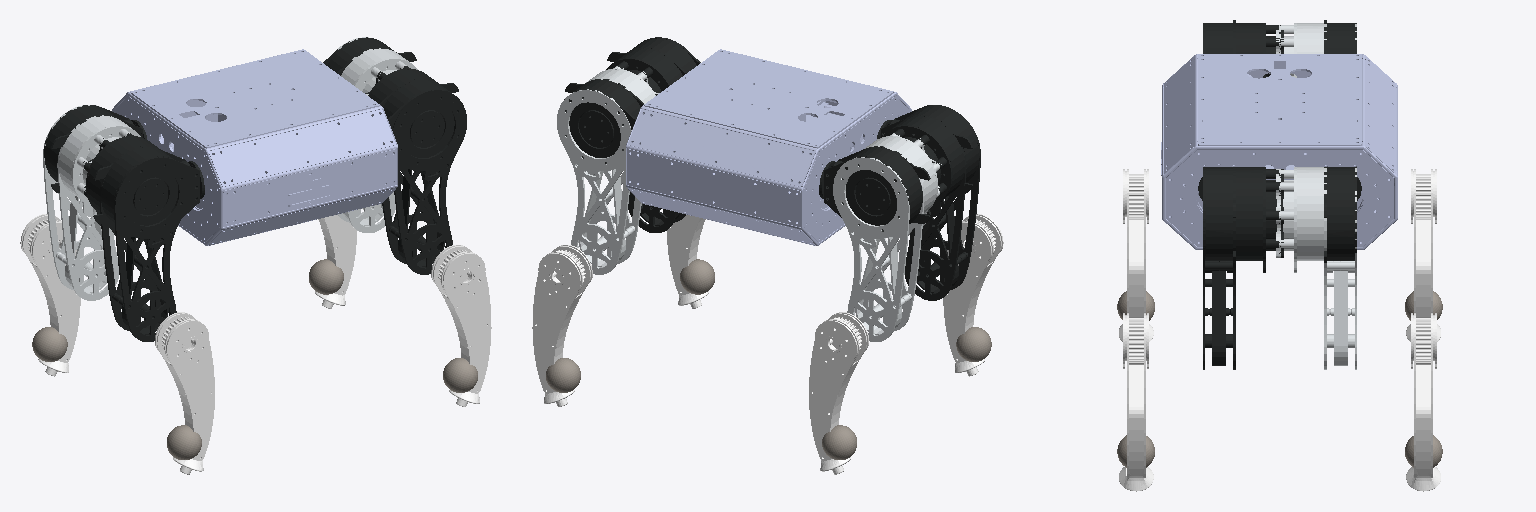
--- Facts derived from the render (not from the file) ---
3 views of the same robot in one strip: view 1: azimuth 30°, elevation 25°; view 2: azimuth 150°, elevation 25°; view 3: azimuth 270°, elevation 25° (orthographic).
Robot: dfki-quad — 22 links, 21 joints (12 revolute, 9 fixed); root link base_link; default pose: all joints at 0.
Visible links, largest first — view 1: base_link, br_HFE_link, fr_HFE_link, bl_HFE_link, br_KFE_link, fr_KFE_link, br_HAA_link, bl_KFE_link, fr_HAA_link, fl_HFE_link, fl_KFE_link, bl_HAA_link (+5 smaller); view 2: base_link, bl_HFE_link, fl_HFE_link, br_HFE_link, bl_KFE_link, fl_KFE_link, bl_HAA_link, br_KFE_link, fl_HAA_link, fr_HFE_link, fr_KFE_link, br_HAA_link (+5 smaller); view 3: base_link, fl_HFE_link, fr_HFE_link, fr_KFE_link, fl_KFE_link, bl_KFE_link, br_KFE_link, fl_HAA_link, fr_HAA_link, bl_HFE_link, br_HFE_link, bl_HAA_link (+1 smaller).
Boxes of the visible links, x1=… form: base_link: x1=112, y1=49, x2=397, y2=245; br_HFE_link: x1=83, y1=133, x2=190, y2=341; fr_HFE_link: x1=365, y1=66, x2=466, y2=274; bl_HFE_link: x1=43, y1=105, x2=140, y2=300; br_KFE_link: x1=155, y1=312, x2=214, y2=474; fr_KFE_link: x1=431, y1=245, x2=491, y2=406; br_HAA_link: x1=93, y1=146, x2=204, y2=231; bl_KFE_link: x1=20, y1=214, x2=80, y2=376; fr_HAA_link: x1=380, y1=79, x2=459, y2=163; fl_HFE_link: x1=338, y1=37, x2=417, y2=232; fl_KFE_link: x1=315, y1=215, x2=356, y2=308; bl_HAA_link: x1=44, y1=105, x2=146, y2=192; base_link: x1=626, y1=49, x2=911, y2=245; bl_HFE_link: x1=833, y1=133, x2=941, y2=341; fl_HFE_link: x1=557, y1=66, x2=658, y2=274; br_HFE_link: x1=883, y1=105, x2=980, y2=300; bl_KFE_link: x1=809, y1=312, x2=868, y2=474; fl_KFE_link: x1=532, y1=245, x2=592, y2=406; bl_HAA_link: x1=819, y1=146, x2=930, y2=231; br_KFE_link: x1=943, y1=214, x2=1003, y2=376; fl_HAA_link: x1=564, y1=79, x2=643, y2=163; fr_HFE_link: x1=606, y1=37, x2=685, y2=232; fr_KFE_link: x1=667, y1=215, x2=708, y2=308; br_HAA_link: x1=877, y1=105, x2=979, y2=192; base_link: x1=1162, y1=54, x2=1397, y2=249; fl_HFE_link: x1=1276, y1=167, x2=1356, y2=369; fr_HFE_link: x1=1203, y1=167, x2=1283, y2=369; fr_KFE_link: x1=1119, y1=313, x2=1153, y2=491; fl_KFE_link: x1=1406, y1=313, x2=1440, y2=491; bl_KFE_link: x1=1406, y1=169, x2=1440, y2=341; br_KFE_link: x1=1119, y1=169, x2=1153, y2=341; fl_HAA_link: x1=1324, y1=167, x2=1361, y2=262; fr_HAA_link: x1=1198, y1=167, x2=1235, y2=262; bl_HFE_link: x1=1276, y1=23, x2=1356, y2=77; br_HFE_link: x1=1203, y1=23, x2=1283, y2=77; bl_HAA_link: x1=1324, y1=20, x2=1356, y2=53.
Bounding box of the posed robot: 0.4813 × 0.3473 × 0.3702 m (x, y, z).
Meshes: 18 distinct files referenced, 18 mesh visuals loaded (18 OBJ).

robot.urdf — dfki-quad:
<?xml version="1.0" encoding="utf-8"?>
<!-- This URDF was automatically created by SolidWorks to URDF Exporter! Originally created by Stephen Brawner ([email redacted])
     Commit Version: 1.6.0-4-g7f85cfe  Build Version: 1.6.7995.38578
     For more information, please see http://wiki.ros.org/sw_urdf_exporter -->
<robot xmlns:drake="http://drake.mit.edu" name="dfki-quad">
    <link name="base_link">
        <inertial>
            <origin xyz="-0.00024281 0.0014491 0.016057" rpy="0 0 0"/>
            <mass value="4.2653"/>
            <inertia ixx="0.0075226" ixy="-2.4523E-06" ixz="-6.4336E-05" iyy="0.0062347" iyz="-9.679E-08"
                     izz="0.0094212"/>
        </inertial>
        <visual>
            <origin xyz="0 0 0" rpy="0 0 0"/>
            <geometry>
                <mesh filename="meshes/obj/base_link.obj"/>
            </geometry>
            <material name="">
                <color rgba="0.792156862745098 0.819607843137255 0.933333333333333 1"/>
            </material>
        </visual>
        <collision name="base_link_collision">
            <origin xyz="0 0 0.01" rpy="0 0 0"/>
            <geometry>
                <!-- <mesh filename="meshes/obj/base_link.obj" /> -->
                <box size="0.47 0.18 0.12" name="TEST"/>
            </geometry>
            <drake:proximity_properties>
                <drake:compliant_hydroelastic/>
                <drake:hydroelastic_modulus value="5e7"/>
                <drake:hunt_crossley_dissipation value="0.0"/>
                <drake:mesh_resolution_hint value="0.1"/>
            </drake:proximity_properties>
        </collision>
    </link>

    <link name="fl_HAA_link">
        <inertial>
            <origin xyz="-0.0049247 -0.0032803 -4.7454E-11" rpy="0 0 0"/>
            <mass value="0.55689"/>
            <inertia ixx="0.00037385" ixy="7.6753E-06" ixz="-7.7513E-14" iyy="0.00060901" iyz="-6.3404E-14"
                     izz="0.00036065"/>
        </inertial>
        <visual>
            <origin xyz="0 0 0" rpy="0 0 0"/>
            <geometry>
                <mesh filename="meshes/obj/fl_HAA_link.obj"/>
            </geometry>
            <material name="">
                <color rgba="0.192156862745098 0.203921568627451 0.203921568627451 1"/>
            </material>
        </visual>
        <!-- <collision>
          <origin xyz="0 0 0" rpy="0 0 0" />
          <geometry>
            <mesh filename="meshes/obj/fl_HAA_link.obj" />
          </geometry>
        </collision> -->
    </link>
    <joint name="fl_abad" type="revolute">
        <origin xyz="0.1823 0.064622 0.01223" rpy="0 0 0"/>
        <parent link="base_link"/>
        <child link="fl_HAA_link"/>
        <axis xyz="1 0 0"/>
        <limit lower="-1.5708" upper="1.5708" effort="16" velocity="43.63"/>
    </joint>
    <link name="fl_HFE_link">
        <inertial>
            <origin xyz="-0.000309099592494755 0.0592971342123659 -0.0155787358460511" rpy="0 0 0"/>
            <mass value="0.757355940225912"/>
            <inertia ixx="0.000930735288833917" ixy="9.29777265885545E-06" ixz="-6.64795678058204E-06"
                     iyy="0.00126293713603538" iyz="-3.85121712819215E-06" izz="0.000468369910900618"/>
        </inertial>
        <visual>
            <origin xyz="0 0 0" rpy="0 0 0"/>
            <geometry>
                <mesh filename="meshes/obj/fl_HFE_link.obj"/>
            </geometry>
            <material name="">
                <color rgba="0.898039215686275 0.917647058823529 0.929411764705882 1"/>
            </material>
        </visual>
        <collision name="fl_HFE_collision">
            <origin xyz="0 0.09 -0.05" rpy="0 0 0"/>
            <geometry>
                <!-- <mesh filename="meshes/obj/fl_HFE_link.obj" /> -->
                <box size="0.065 0.035 0.19"/>
            </geometry>
            <drake:proximity_properties>
                <drake:compliant_hydroelastic/>
                <drake:hydroelastic_modulus value="5e7"/>
                <drake:mesh_resolution_hint value="0.19"/>
                <drake:hunt_crossley_dissipation value="0.0"/>
            </drake:proximity_properties>
        </collision>
    </link>
    <joint name="fl_shoulder" type="revolute">
        <origin xyz="0 0 0" rpy="0 0 0"/>
        <parent link="fl_HAA_link"/>
        <child link="fl_HFE_link"/>
        <axis xyz="0 1 0"/>
        <limit lower="-4.398" upper="4.398" effort="16" velocity="43.63"/>
    </joint>
    <link name="fl_KFE_link">
        <inertial>
            <origin xyz="-0.000612511970991186 -3.8249903244747E-10 -0.0190160381637978" rpy="0 0 0"/>
            <mass value="0.092465508863915"/>
            <inertia ixx="8.22684885297102E-05" ixy="-4.51648361906756E-13" ixz="5.32534286428279E-06"
                     iyy="9.84478666365485E-05" iyz="9.20617336695021E-12" izz="1.73201109019667E-05"/>
        </inertial>
        <visual>
            <origin xyz="0 0 0" rpy="0 0 0"/>
            <geometry>
                <mesh filename="meshes/obj/fl_KFE_link.obj"/>
            </geometry>
            <material name="">
                <color rgba="1 1 1 1"/>
            </material>
        </visual>
        <collision name="fl_KFE_link_collision">
            <origin xyz="0 0 -0.06" rpy="0 0 0"/>
            <geometry>
                <!-- <mesh filename="meshes/obj/fl_KFE_link.obj" /> -->
                <box size="0.02 0.02 0.09"/>
            </geometry>
            <drake:proximity_properties>
                <drake:compliant_hydroelastic/>
                <drake:hydroelastic_modulus value="5e7"/>
                <drake:mesh_resolution_hint value="0.02"/>
                <drake:hunt_crossley_dissipation value="0.0"/>
            </drake:proximity_properties>
        </collision>
    </link>
    <joint name="fl_knee" type="revolute">
        <origin xyz="0 0.0888 -0.15" rpy="0 0 0"/>
        <parent link="fl_HFE_link"/>
        <child link="fl_KFE_link"/>
        <axis xyz="0 1 0"/>
        <limit lower="-2.5" upper="1.57" effort="30" velocity="20"/>
    </joint>
    <link name="fl_foot_link">
        <inertial>
            <origin xyz="0.00113958036105341 -2.77555756156289E-17 0.00439935319886975" rpy="0 0 0"/>
            <mass value="0.00532558894950042"/>
            <inertia ixx="1.26104209201748E-07" ixy="5.99748747683856E-24" ixz="-1.86674655051106E-08"
                     iyy="1.30939710267162E-07" iyz="2.23024150939061E-23" izz="5.88739070193902E-08"/>
        </inertial>
        <visual>
            <origin xyz="0 0 0" rpy="0 0 0"/>
            <geometry>
                <mesh filename="meshes/obj/fl_foot_link.obj"/>
            </geometry>
            <material name="">
                <color rgba="0.647058823529412 0.619607843137255 0.588235294117647 1"/>
            </material>
        </visual>
    </link>
    <joint name="fl_foot" type="fixed">
        <origin xyz="0 0 -0.13" rpy="0 0 0"/>
        <parent link="fl_KFE_link"/>
        <child link="fl_foot_link"/>
        <axis xyz="0 0 0"/>
    </joint>
    <link name="fl_contact">
        <inertial>
            <origin xyz="0.0 -0.0 0.0" rpy="0 0 0"/>
            <mass value="0.001"/>
            <inertia ixx="1.26104209201748E-07" ixy="6.03511043060453E-24" ixz="-1.86674655051106E-08"
                     iyy="1.30939710267162E-07" iyz="2.22210127082736E-23" izz="5.88739070193902E-08"/>
        </inertial>
        <visual>
            <origin xyz="0.0 0 0.0" rpy="0 0 0"/>
            <geometry>
                <sphere radius="0.02"/>
            </geometry>
            <material name="">
                <color rgba="0.647058823529412 0.619607843137255 0.588235294117647 1"/>
            </material>
        </visual>
        <collision name="fl_foot_collision">
            <origin xyz="0 0 0" rpy="0 0 0"/>
            <geometry>
                <!-- <mesh filename="meshes/obj/fl_foot_link.obj" /> -->
                <sphere radius="0.02"/>
            </geometry>
            <drake:proximity_properties>
                <drake:compliant_hydroelastic/>
                <drake:mesh_resolution_hint value="0.02"/>
                <drake:hydroelastic_modulus value="3e5"/>
                <drake:hunt_crossley_dissipation value="50.0"/>
                <drake:mu_dynamic value="4.0"/>
                <drake:mu_static value="4.0"/>
            </drake:proximity_properties>
        </collision>
    </link>
    <joint name="fl_contact_frame" type="fixed">
        <origin xyz="0 0 0.0" rpy="0 0 0"/>
        <parent link="fl_foot_link"/>
        <child link="fl_contact"/>
        <axis xyz="0 0 0"/>
    </joint>


    <transmission name="trans_fl_abad">
        <type>transmission_interface/SimpleTransmission</type>
        <joint name="fl_abad">
            <hardwareInterface>PositionJointInterface</hardwareInterface>
        </joint>
        <actuator name="act_fl_abad">
            <mechanicalReduction>1.0</mechanicalReduction>
            <hardwareInterface>PositionJointInterface</hardwareInterface>
            <drake:rotor_inertia value="0.05"/>
        </actuator>
    </transmission>
    <transmission name="trans_fl_shoulder">
        <type>transmission_interface/SimpleTransmission</type>
        <joint name="fl_shoulder">
            <hardwareInterface>PositionJointInterface</hardwareInterface>
        </joint>
        <actuator name="act_fl_shoulder">
            <mechanicalReduction>1.0</mechanicalReduction>
            <hardwareInterface>PositionJointInterface</hardwareInterface>
            <drake:rotor_inertia value="0.05"/>
        </actuator>
    </transmission>
    <transmission name="trans_fl_knee">
        <type>transmission_interface/SimpleTransmission</type>
        <joint name="fl_knee">
            <hardwareInterface>PositionJointInterface</hardwareInterface>
        </joint>
        <actuator name="act_fl_knee">
            <mechanicalReduction>1.0</mechanicalReduction>
            <hardwareInterface>PositionJointInterface</hardwareInterface>
            <drake:rotor_inertia value="0.05"/>
        </actuator>
    </transmission>


    <link name="fr_HAA_link">
        <inertial>
            <origin xyz="-0.00492472958390502 0.00328034681546928 4.74542511216852E-11" rpy="0 0 0"/>
            <mass value="0.556889921970022"/>
            <inertia ixx="0.000373847805487761" ixy="-7.67531604751217E-06" ixz="7.75127155445682E-14"
                     iyy="0.000609014429099026" iyz="-6.34043378292338E-14" izz="0.000360654806782475"/>
        </inertial>
        <visual>
            <origin xyz="0 0 0" rpy="0 0 0"/>
            <geometry>
                <mesh filename="meshes/obj/fr_HAA_link.obj"/>
            </geometry>
            <material name="">
                <color rgba="0.192156862745098 0.203921568627451 0.203921568627451 1"/>
            </material>
        </visual>
        <!-- <collision>
          <origin xyz="0 0 0" rpy="0 0 0" />
          <geometry>
            <mesh filename="meshes/obj/fr_HAA_link.obj" />
          </geometry>
        </collision> -->
    </link>
    <joint name="fr_abad" type="revolute">
        <origin xyz="0.1823 -0.064622 0.01223" rpy="0 0 0"/>
        <parent link="base_link"/>
        <child link="fr_HAA_link"/>
        <axis xyz="1 0 0"/>
        <limit lower="-1.5708" upper="1.5708" effort="16" velocity="43.63"/>
    </joint>
    <link name="fr_HFE_link">
        <inertial>
            <origin xyz="-0.000309101043062948 -0.0592830121726714 -0.0155787409784353" rpy="0 0 0"/>
            <mass value="0.757355940225912"/>
            <inertia ixx="0.000930735300678418" ixy="-9.29782931306803E-06" ixz="-6.64793757030374E-06"
                     iyy="0.00126293713603478" iyz="3.85133281087072E-06" izz="0.00046836989905552"/>
        </inertial>
        <visual>
            <origin xyz="0 0 0" rpy="0 0 0"/>
            <geometry>
                <mesh filename="meshes/obj/fr_HFE_link.obj"/>
            </geometry>
            <material name="">
                <color rgba="0.192156862745098 0.203921568627451 0.203921568627451 1"/>
            </material>
        </visual>
        <collision name="fr_HFE_collision">
            <origin xyz="0 -0.09 -0.05" rpy="0 0 0"/>
            <geometry>
                <!-- <mesh filename="meshes/obj/fr_HFE_link.obj" /> -->
                <box size="0.065 0.035 0.19"/>
            </geometry>
            <drake:proximity_properties>
                <drake:compliant_hydroelastic/>
                <drake:hydroelastic_modulus value="5e7"/>
                <drake:mesh_resolution_hint value="0.19"/>
                <drake:hunt_crossley_dissipation value="0.0"/>
            </drake:proximity_properties>
        </collision>
    </link>
    <joint name="fr_shoulder" type="revolute">
        <origin xyz="0 0 0" rpy="0 0 0"/>
        <parent link="fr_HAA_link"/>
        <child link="fr_HFE_link"/>
        <axis xyz="0 1 0"/>
        <limit lower="-4.398" upper="4.398" effort="16" velocity="43.63"/>
    </joint>
    <link name="fr_KFE_link">
        <inertial>
            <origin xyz="-0.000612511608132277 -3.82499393269953E-10 -0.0190160392483582" rpy="0 0 0"/>
            <mass value="0.0924655093913887"/>
            <inertia ixx="8.22684835881254E-05" ixy="-4.51648291808197E-13" ixz="5.32534157974082E-06"
                     iyy="9.84478614813258E-05" iyz="9.20617322119976E-12" izz="1.73201107018322E-05"/>
        </inertial>
        <visual>
            <origin xyz="0 0 0" rpy="0 0 0"/>
            <geometry>
                <mesh filename="meshes/obj/fr_KFE_link.obj"/>
            </geometry>
            <material name="">
                <color rgba="1 1 1 1"/>
            </material>
        </visual>
        <collision name="fr_KFE_collision">
            <origin xyz="0 0 -0.06" rpy="0 0 0"/>
            <geometry>
                <!-- <mesh filename="meshes/obj/fr_KFE_link.obj" /> -->
                <box size="0.02 0.02 0.09"/>
            </geometry>
            <drake:proximity_properties>
                <drake:compliant_hydroelastic/>
                <drake:hydroelastic_modulus value="5e7"/>
                <drake:mesh_resolution_hint value="0.02"/>
                <drake:hunt_crossley_dissipation value="0.0"/>
            </drake:proximity_properties>
        </collision>
    </link>
    <joint name="fr_knee" type="revolute">
        <origin xyz="0 -0.0888 -0.15" rpy="0 0 0"/>
        <parent link="fr_HFE_link"/>
        <child link="fr_KFE_link"/>
        <axis xyz="0 1 0"/>
        <limit lower="-2.5" upper="1.57" effort="30" velocity="20"/>
    </joint>
    <link name="fr_foot_link">
        <inertial>
            <origin xyz="0.00113958036105341 -5.55111512312578E-17 0.00439935319886969" rpy="0 0 0"/>
            <mass value="0.00532558894950043"/>
            <inertia ixx="1.26104209201748E-07" ixy="4.67571649650814E-24" ixz="-1.86674655051106E-08"
                     iyy="1.30939710267162E-07" iyz="1.15717216386863E-23" izz="5.88739070193902E-08"/>
        </inertial>
        <visual>
            <origin xyz="0 0 0" rpy="0 0 0"/>
            <geometry>
                <mesh filename="meshes/obj/fr_foot_link.obj"/>
            </geometry>
            <material name="">
                <color rgba="0.647058823529412 0.619607843137255 0.588235294117647 1"/>
            </material>
        </visual>
    </link>
    <joint name="fr_foot" type="fixed">
        <origin xyz="0 0 -0.13" rpy="0 0 0"/>
        <parent link="fr_KFE_link"/>
        <child link="fr_foot_link"/>
        <axis xyz="0 0 0"/>
    </joint>
    <link name="fr_contact">
        <inertial>
            <origin xyz="0.0 -0.0 0.0" rpy="0 0 0"/>
            <mass value="0.001"/>
            <inertia ixx="1.26104209201748E-07" ixy="6.03511043060453E-24" ixz="-1.86674655051106E-08"
                     iyy="1.30939710267162E-07" iyz="2.22210127082736E-23" izz="5.88739070193902E-08"/>
        </inertial>
        <visual>
            <origin xyz="0.0 0 0.0" rpy="0 0 0"/>
            <geometry>
                <sphere radius="0.02"/>
            </geometry>
            <material name="">
                <color rgba="0.647058823529412 0.619607843137255 0.588235294117647 1"/>
            </material>
        </visual>
        <collision name="fr_foot_collision">
            <origin xyz="0 0 0" rpy="0 0 0"/>
            <geometry>
                <!-- <mesh filename="meshes/obj/fr_foot_link.obj" /> -->
                <sphere radius="0.02"/>
            </geometry>
            <drake:proximity_properties>
                <drake:compliant_hydroelastic/>
                <drake:mesh_resolution_hint value="0.02"/>
                <drake:hydroelastic_modulus value="3e5"/>
                <drake:hunt_crossley_dissipation value="50.0"/>
                <drake:mu_dynamic value="4.0"/>
                <drake:mu_static value="4.0"/>
            </drake:proximity_properties>
        </collision>
    </link>
    <joint name="fr_contact_frame" type="fixed">
        <origin xyz="0 0 0.0" rpy="0 0 0"/>
        <parent link="fr_foot_link"/>
        <child link="fr_contact"/>
        <axis xyz="0 0 0"/>
    </joint>


    <transmission name="trans_fr_abad">
        <type>transmission_interface/SimpleTransmission</type>
        <joint name="fr_abad">
            <hardwareInterface>PositionJointInterface</hardwareInterface>
        </joint>
        <actuator name="act_fr_abad">
            <mechanicalReduction>1.0</mechanicalReduction>
            <hardwareInterface>PositionJointInterface</hardwareInterface>
            <drake:rotor_inertia value="0.05"/>
        </actuator>
    </transmission>
    <transmission name="trans_fr_shoulder">
        <type>transmission_interface/SimpleTransmission</type>
        <joint name="fr_shoulder">
            <hardwareInterface>PositionJointInterface</hardwareInterface>
        </joint>
        <actuator name="act_fr_shoulder">
            <mechanicalReduction>1.0</mechanicalReduction>
            <hardwareInterface>PositionJointInterface</hardwareInterface>
            <drake:rotor_inertia value="0.05"/>
        </actuator>
    </transmission>
    <transmission name="trans_fr_knee">
        <type>transmission_interface/SimpleTransmission</type>
        <joint name="fr_knee">
            <hardwareInterface>PositionJointInterface</hardwareInterface>
        </joint>
        <actuator name="act_fr_knee">
            <mechanicalReduction>1.0</mechanicalReduction>
            <hardwareInterface>PositionJointInterface</hardwareInterface>
            <drake:rotor_inertia value="0.05"/>
        </actuator>
    </transmission>


    <link name="bl_HAA_link">
        <inertial>
            <origin xyz="0.004924729583905 -0.00328034681546929 4.74542570378922E-11" rpy="0 0 0"/>
            <mass value="0.556889921970022"/>
            <inertia ixx="0.000373847805487761" ixy="-7.67531604751224E-06" ixz="-7.75126837204945E-14"
                     iyy="0.000609014429099027" iyz="6.34041921064572E-14" izz="0.000360654806782475"/>
        </inertial>
        <visual>
            <origin xyz="0 0 0" rpy="0 0 0"/>
            <geometry>
                <mesh filename="meshes/obj/bl_HAA_link.obj"/>
            </geometry>
            <material name="">
                <color rgba="0.192156862745098 0.203921568627451 0.203921568627451 1"/>
            </material>
        </visual>
        <!-- <collision>
          <origin xyz="0 0 0" rpy="0 0 0" />
          <geometry>
            <mesh filename="meshes/obj/bl_HAA_link.obj" />
          </geometry>
        </collision> -->
    </link>
    <joint name="bl_abad" type="revolute">
        <origin xyz="-0.1823 0.064622 0.01223" rpy="0 0 0"/>
        <parent link="base_link"/>
        <child link="bl_HAA_link"/>
        <axis xyz="1 0 0"/>
        <limit lower="-1.5708" upper="1.5708" effort="16" velocity="43.63"/>
    </joint>
    <link name="bl_HFE_link">
        <inertial>
            <origin xyz="-0.000309099592494838 0.0592971342123661 -0.0155787358460509" rpy="0 0 0"/>
            <mass value="0.757355940225912"/>
            <inertia ixx="0.000930735288834102" ixy="9.29777265885247E-06" ixz="-6.64795678085117E-06"
                     iyy="0.00126293713603534" iyz="-3.85121712819409E-06" izz="0.000468369910900392"/>
        </inertial>
        <visual>
            <origin xyz="0 0 0" rpy="0 0 0"/>
            <geometry>
                <mesh filename="meshes/obj/bl_HFE_link.obj"/>
            </geometry>
            <material name="">
                <color rgba="0.898039215686275 0.917647058823529 0.929411764705882 1"/>
            </material>
        </visual>
        <collision name="bl_HFE_link">
            <origin xyz="0 0.09 -0.05" rpy="0 0 0"/>
            <geometry>
                <!-- <mesh filename="meshes/obj/bl_HFE_link.obj" /> -->
                <box size="0.065 0.035 0.19"/>
            </geometry>
            <drake:proximity_properties>
                <drake:compliant_hydroelastic/>
                <drake:hydroelastic_modulus value="5e7"/>
                <drake:mesh_resolution_hint value="0.06"/>
                <drake:hunt_crossley_dissipation value="0.0"/>
            </drake:proximity_properties>
        </collision>
    </link>
    <joint name="bl_shoulder" type="revolute">
        <origin xyz="0 0 0" rpy="0 0 0"/>
        <parent link="bl_HAA_link"/>
        <child link="bl_HFE_link"/>
        <axis xyz="0 1 0"/>
        <limit lower="-4.398" upper="4.398" effort="16" velocity="43.63"/>
    </joint>
    <link name="bl_KFE_link">
        <inertial>
            <origin xyz="-0.000612511608132443 -3.82499115714197E-10 -0.0190160392483582" rpy="0 0 0"/>
            <mass value="0.0924655093913889"/>
            <inertia ixx="8.22684835881258E-05" ixy="-4.5164828883313E-13" ixz="5.3253415797408E-06"
                     iyy="9.84478614813263E-05" iyz="9.20617319694051E-12" izz="1.73201107018322E-05"/>
        </inertial>
        <visual>
            <origin xyz="0 0 0" rpy="0 0 0"/>
            <geometry>
                <mesh filename="meshes/obj/bl_KFE_link.obj"/>
            </geometry>
            <material name="">
                <color rgba="1 1 1 1"/>
            </material>
        </visual>
        <collision name="bl_KFE_collision">
            <origin xyz="0 0 -0.06" rpy="0 0 0"/>
            <geometry>
                <!-- <mesh filename="meshes/obj/bl_KFE_link.obj" /> -->
                <box size="0.02 0.02 0.09"/>
            </geometry>
            <drake:proximity_properties>
                <drake:compliant_hydroelastic/>
                <drake:hydroelastic_modulus value="5e7"/>
                <drake:mesh_resolution_hint value="0.02"/>
                <drake:hunt_crossley_dissipation value="0.0"/>
            </drake:proximity_properties>
        </collision>
    </link>
    <joint name="bl_knee" type="revolute">
        <origin xyz="0 0.0888 -0.15" rpy="0 0 0"/>
        <parent link="bl_HFE_link"/>
        <child link="bl_KFE_link"/>
        <axis xyz="0 1 0"/>
        <limit lower="-2.5" upper="1.57" effort="30" velocity="20"/>
    </joint>
    <link name="bl_foot_link">
        <inertial>
            <origin xyz="0.00113958036105341 -5.55111512312578E-17 0.00439935319886975" rpy="0 0 0"/>
            <mass value="0.00532558894950043"/>
            <inertia ixx="1.2610420920175E-07" ixy="2.39578552378E-24" ixz="-1.86674655051111E-08"
                     iyy="1.30939710267164E-07" iyz="2.01433902118905E-23" izz="5.88739070193903E-08"/>
        </inertial>
        <visual>
            <origin xyz="0 0 0" rpy="0 0 0"/>
            <geometry>
                <mesh filename="meshes/obj/bl_foot_link.obj"/>
            </geometry>
            <material name="">
                <color rgba="0.647058823529412 0.619607843137255 0.588235294117647 1"/>
            </material>
        </visual>
    </link>
    <joint name="bl_foot" type="fixed">
        <origin xyz="0 0 -0.13" rpy="0 0 0"/>
        <parent link="bl_KFE_link"/>
        <child link="bl_foot_link"/>
        <axis xyz="0 0 0"/>
    </joint>
    <link name="bl_contact">
        <inertial>
            <origin xyz="0.0 -0.0 0.0" rpy="0 0 0"/>
            <mass value="0.001"/>
            <inertia ixx="1.26104209201748E-07" ixy="6.03511043060453E-24" ixz="-1.86674655051106E-08"
                     iyy="1.30939710267162E-07" iyz="2.22210127082736E-23" izz="5.88739070193902E-08"/>
        </inertial>
        <visual>
            <origin xyz="0.0 0 0.0" rpy="0 0 0"/>
            <geometry>
                <sphere radius="0.02"/>
            </geometry>
            <material name="">
                <color rgba="0.647058823529412 0.619607843137255 0.588235294117647 1"/>
            </material>
        </visual>
        <collision name="bl_foot_collision">
            <origin xyz="0 0 0" rpy="0 0 0"/>
            <geometry>
                <!-- <mesh filename="meshes/obj/bl_foot_link.obj" /> -->
                <sphere radius="0.02"/>
            </geometry>
            <drake:proximity_properties>
                <drake:compliant_hydroelastic/>
                <drake:mesh_resolution_hint value="0.02"/>
                <drake:hydroelastic_modulus value="3e5"/>
                <drake:hunt_crossley_dissipation value="50.0"/>
                <drake:mu_dynamic value="4.0"/>
                <drake:mu_static value="4.0"/>
            </drake:proximity_properties>
        </collision>
    </link>
    <joint name="bl_contact_frame" type="fixed">
        <origin xyz="0 0 0.0" rpy="0 0 0"/>
        <parent link="bl_foot_link"/>
        <child link="bl_contact"/>
        <axis xyz="0 0 0"/>
    </joint>


    <transmission name="trans_bl_abad">
        <type>transmission_interface/SimpleTransmission</type>
        <joint name="bl_abad">
            <hardwareInterface>PositionJointInterface</hardwareInterface>
        </joint>
        <actuator name="act_bl_abad">
            <mechanicalReduction>1.0</mechanicalReduction>
            <hardwareInterface>PositionJointInterface</hardwareInterface>
            <drake:rotor_inertia value="0.05"/>
        </actuator>
    </transmission>
    <transmission name="trans_bl_shoulder">
        <type>transmission_interface/SimpleTransmission</type>
        <joint name="bl_shoulder">
            <hardwareInterface>PositionJointInterface</hardwareInterface>
        </joint>
        <actuator name="act_bl_shoulder">
            <mechanicalReduction>1.0</mechanicalReduction>
            <hardwareInterface>PositionJointInterface</hardwareInterface>
            <drake:rotor_inertia value="0.05"/>
        </actuator>
    </transmission>
    <transmission name="trans_bl_knee">
        <type>transmission_interface/SimpleTransmission</type>
        <joint name="bl_knee">
            <hardwareInterface>PositionJointInterface</hardwareInterface>
        </joint>
        <actuator name="act_bl_knee">
            <mechanicalReduction>1.0</mechanicalReduction>
            <hardwareInterface>PositionJointInterface</hardwareInterface>
            <drake:rotor_inertia value="0.05"/>
        </actuator>
    </transmission>


    <link name="br_HAA_link">
        <inertial>
            <origin xyz="0.00492472958390505 0.00328034681546927 -4.74542559855168E-11" rpy="0 0 0"/>
            <mass value="0.556889921970022"/>
            <inertia ixx="0.000373847805487761" ixy="7.67531604751252E-06" ixz="7.75127130724998E-14"
                     iyy="0.000609014429099027" iyz="6.3404075977602E-14" izz="0.000360654806782475"/>
        </inertial>
        <visual>
            <origin xyz="0 0 0" rpy="0 0 0"/>
            <geometry>
                <mesh filename="meshes/obj/br_HAA_link.obj"/>
            </geometry>
            <material name="">
                <color rgba="0.192156862745098 0.203921568627451 0.203921568627451 1"/>
            </material>
        </visual>
        <!-- <collision>
          <origin xyz="0 0 0" rpy="0 0 0" />
          <geometry>
            <mesh filename="meshes/obj/br_HAA_link.obj" />
          </geometry>
        </collision> -->
    </link>
    <joint name="br_abad" type="revolute">
        <origin xyz="-0.1823 -0.064622 0.01223" rpy="0 0 0"/>
        <parent link="base_link"/>
        <child link="br_HAA_link"/>
        <axis xyz="1 0 0"/>
        <limit lower="-1.5708" upper="1.5708" effort="16" velocity="43.63"/>
    </joint>
    <link name="br_HFE_link">
        <inertial>
            <origin xyz="-0.0003091 -0.059283 -0.015579" rpy="0 0 0"/>
            <mass value="0.75736"/>
            <inertia ixx="0.00093074" ixy="-9.2978E-06" ixz="-6.6479E-06" iyy="0.0012629" iyz="3.8513E-06"
                     izz="0.00046837"/>
        </inertial>
        <visual>
            <origin xyz="0 0 0" rpy="0 0 0"/>
            <geometry>
                <mesh filename="meshes/obj/br_HFE_link.obj"/>
            </geometry>
            <material name="">
                <color rgba="0.192156862745098 0.203921568627451 0.203921568627451 1"/>
            </material>
        </visual>
        <collision name="br_HFE_collision">
            <origin xyz="0 -0.09 -0.05" rpy="0 0 0"/>
            <geometry>
                <!-- <mesh filename="meshes/obj/br_HFE_link.obj" /> -->
                <box size="0.065 0.035 0.19"/>
            </geometry>
            <drake:proximity_properties>
                <drake:compliant_hydroelastic/>
                <drake:hydroelastic_modulus value="5e7"/>
                <drake:mesh_resolution_hint value="0.06"/>
                <drake:hunt_crossley_dissipation value="0.0"/>
            </drake:proximity_properties>
        </collision>
    </link>
    <joint name="br_shoulder" type="revolute">
        <origin xyz="0 0 0" rpy="0 0 0"/>
        <parent link="br_HAA_link"/>
        <child link="br_HFE_link"/>
        <axis xyz="0 1 0"/>
        <limit lower="-4.398" upper="4.398" effort="16" velocity="43.63"/>
    </joint>
    <link name="br_KFE_link">
        <inertial>
            <origin xyz="-0.000612511608132388 -3.82498976936319E-10 -0.0190160392483581" rpy="0 0 0"/>
            <mass value="0.0924655093913887"/>
            <inertia ixx="8.22684835881258E-05" ixy="-4.51648286807556E-13" ixz="5.3253415797408E-06"
                     iyy="9.84478614813262E-05" iyz="9.20617323337779E-12" izz="1.73201107018322E-05"/>
        </inertial>
        <visual>
            <origin xyz="0 0 0" rpy="0 0 0"/>
            <geometry>
                <mesh filename="meshes/obj/br_KFE_link.obj"/>
            </geometry>
            <material name="">
                <color rgba="1 1 1 1"/>
            </material>
        </visual>
        <collision name="br_KFE_collision">
            <origin xyz="0 0 -0.06" rpy="0 0 0"/>
            <geometry>
                <!-- <mesh filename="meshes/obj/br_KFE_link.obj" /> -->
                <box size="0.02 0.02 0.09"/>
            </geometry>
            <drake:proximity_properties>
                <drake:compliant_hydroelastic/>
                <drake:hydroelastic_modulus value="5e7"/>
                <drake:mesh_resolution_hint value="0.02"/>
                <drake:hunt_crossley_dissipation value="0.0"/>
            </drake:proximity_properties>
        </collision>
    </link>
    <joint name="br_knee" type="revolute">
        <origin xyz="0 -0.0888 -0.15" rpy="0 0 0"/>
        <parent link="br_HFE_link"/>
        <child link="br_KFE_link"/>
        <axis xyz="0 1 0"/>
        <limit lower="-2.5" upper="1.57" effort="30" velocity="20"/>
    </joint>
    <link name="br_foot_link">
        <inertial>
            <origin xyz="0.00113958036105341 -5.55111512312578E-17 0.00439935319886969" rpy="0 0 0"/>
            <mass value="0.00532558894950042"/>
            <inertia ixx="1.26104209201749E-07" ixy="3.78990148674297E-23" ixz="-1.86674655051106E-08"
                     iyy="1.30939710267162E-07" iyz="1.40413908146716E-22" izz="5.88739070193901E-08"/>
        </inertial>
        <visual>
            <origin xyz="0 0 0" rpy="0 0 0"/>
            <geometry>
                <mesh filename="meshes/obj/br_foot_link.obj"/>
            </geometry>
            <material name="">
                <color rgba="0.647058823529412 0.619607843137255 0.588235294117647 1"/>
            </material>
        </visual>
    </link>
    <joint name="br_foot" type="fixed">
        <origin xyz="0 0 -0.13" rpy="0 0 0"/>
        <parent link="br_KFE_link"/>
        <child link="br_foot_link"/>
        <axis xyz="0 0 0"/>
    </joint>
    <link name="br_contact">
        <inertial>
            <origin xyz="0.0 -0.0 0.0" rpy="0 0 0"/>
            <mass value="0.001"/>
            <inertia ixx="1.26104209201748E-07" ixy="6.03511043060453E-24" ixz="-1.86674655051106E-08"
                     iyy="1.30939710267162E-07" iyz="2.22210127082736E-23" izz="5.88739070193902E-08"/>
        </inertial>
        <visual>
            <origin xyz="0.0 0 0.0" rpy="0 0 0"/>
            <geometry>
                <sphere radius="0.02"/>
            </geometry>
            <material name="">
                <color rgba="0.647058823529412 0.619607843137255 0.588235294117647 1"/>
            </material>
        </visual>
        <collision name="br_foot_collision">
            <origin xyz="0 0 0" rpy="0 0 0"/>
            <geometry>
                <!-- <mesh filename="meshes/obj/br_foot_link.obj" /> -->
                <sphere radius="0.02"/>
            </geometry>
            <drake:proximity_properties>
                <drake:compliant_hydroelastic/>
                <drake:mesh_resolution_hint value="0.02"/>
                <drake:hydroelastic_modulus value="3e5"/>
                <drake:hunt_crossley_dissipation value="50.0"/>
                <drake:mu_dynamic value="4.0"/>
                <drake:mu_static value="4.0"/>
            </drake:proximity_properties>
        </collision>
    </link>
    <joint name="br_contact_frame" type="fixed">
        <origin xyz="0 0 0.0" rpy="0 0 0"/>
        <parent link="br_foot_link"/>
        <child link="br_contact"/>
        <axis xyz="0 0 0"/>
    </joint>


    <transmission name="trans_br_abad">
        <type>transmission_interface/SimpleTransmission</type>
        <joint name="br_abad">
            <hardwareInterface>PositionJointInterface</hardwareInterface>
        </joint>
        <actuator name="act_br_abad">
            <mechanicalReduction>1.0</mechanicalReduction>
            <hardwareInterface>PositionJointInterface</hardwareInterface>
            <drake:rotor_inertia value="0.05"/>
        </actuator>
    </transmission>
    <transmission name="trans_br_shoulder">
        <type>transmission_interface/SimpleTransmission</type>
        <joint name="br_shoulder">
            <hardwareInterface>PositionJointInterface</hardwareInterface>
        </joint>
        <actuator name="act_br_shoulder">
            <mechanicalReduction>1.0</mechanicalReduction>
            <hardwareInterface>PositionJointInterface</hardwareInterface>
            <drake:rotor_inertia value="0.05"/>
        </actuator>
    </transmission>
    <transmission name="trans_br_knee">
        <type>transmission_interface/SimpleTransmission</type>
        <joint name="br_knee">
            <hardwareInterface>PositionJointInterface</hardwareInterface>
        </joint>
        <actuator name="act_br_knee">
            <mechanicalReduction>1.0</mechanicalReduction>
            <hardwareInterface>PositionJointInterface</hardwareInterface>
            <drake:rotor_inertia value="0.05"/>
        </actuator>
    </transmission>


    <link name="link_imu">
        <inertial>
            <origin xyz="0.0032078 -0.0068928 0.005063" rpy="0 0 0"/>
            <mass value="0.015223"/>
            <inertia ixx="4.1955E-06" ixy="-5.2605E-07" ixz="3.2177E-07" iyy="4.4527E-06" iyz="4.3364E-07"
                     izz="7.6787E-06"/>
        </inertial>
        <visual>
            <origin xyz="0 0 0" rpy="0 0 0"/>
            <geometry>
                <mesh filename="meshes/obj/link_imu.obj"/>
            </geometry>
            <material name="">
                <color rgba="0.79216 0.81961 0.93333 1"/>
            </material>
        </visual>
        <!-- <collision>
          <origin xyz="0 0 0" rpy="0 0 0" />
          <geometry>
            <mesh filename="meshes/obj/link_imu.obj" />
          </geometry>
        </collision> -->
    </link>


    <joint name="joint_imu" type="fixed">
        <origin xyz="-0.00129 -0.095 -0.003" rpy="0 0 0"/>
        <parent link="base_link"/>
        <child link="link_imu"/>
        <axis xyz="0 0 0"/>
    </joint>
</robot>
